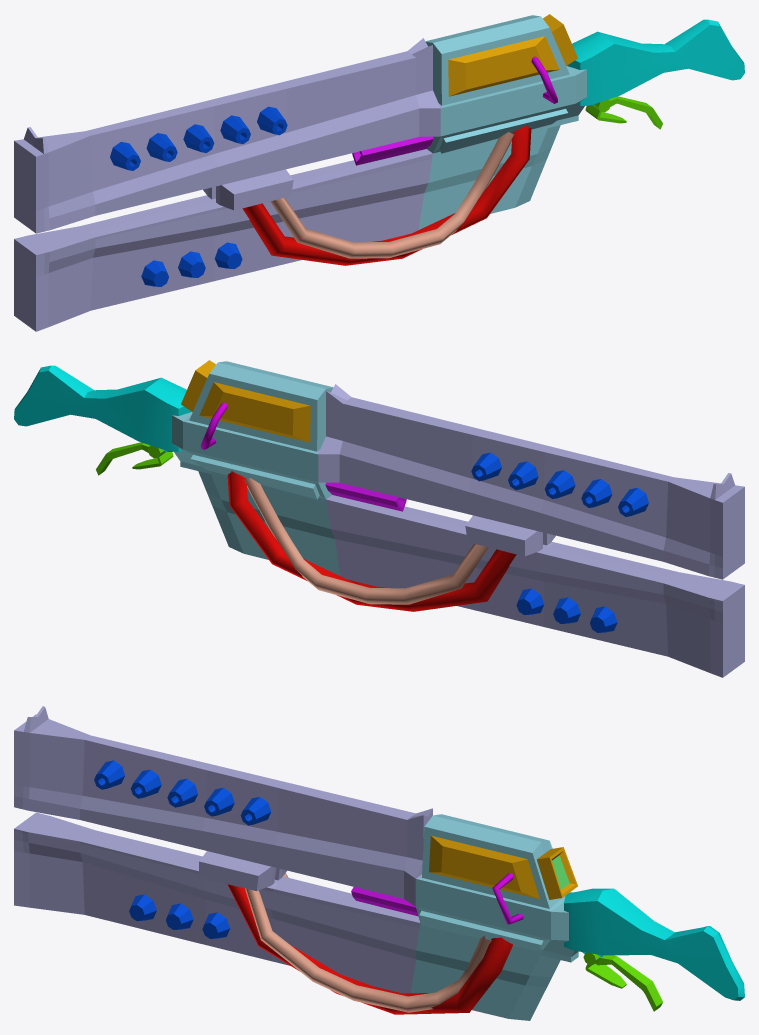
File: sniper1.fbx
3 views of the same model, one above another, from view 1: azimuth 30°, elevation 25°; view 2: azimuth 150°, elevation 25°; view 3: azimuth 330°, elevation 25° (orthographic).
Parts seen in each view (by area): view 1: Cube; view 2: Cube; view 3: Cube.
Boxes of the visible parts, x1,y1,x2,y2 form: Cube: (14,14,744,331); Cube: (14,360,744,677); Cube: (14,706,744,1020).
Size of the model in its own units: 2136 by 600 by 261.
